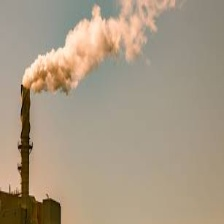smoke: (21, 1, 152, 87)
